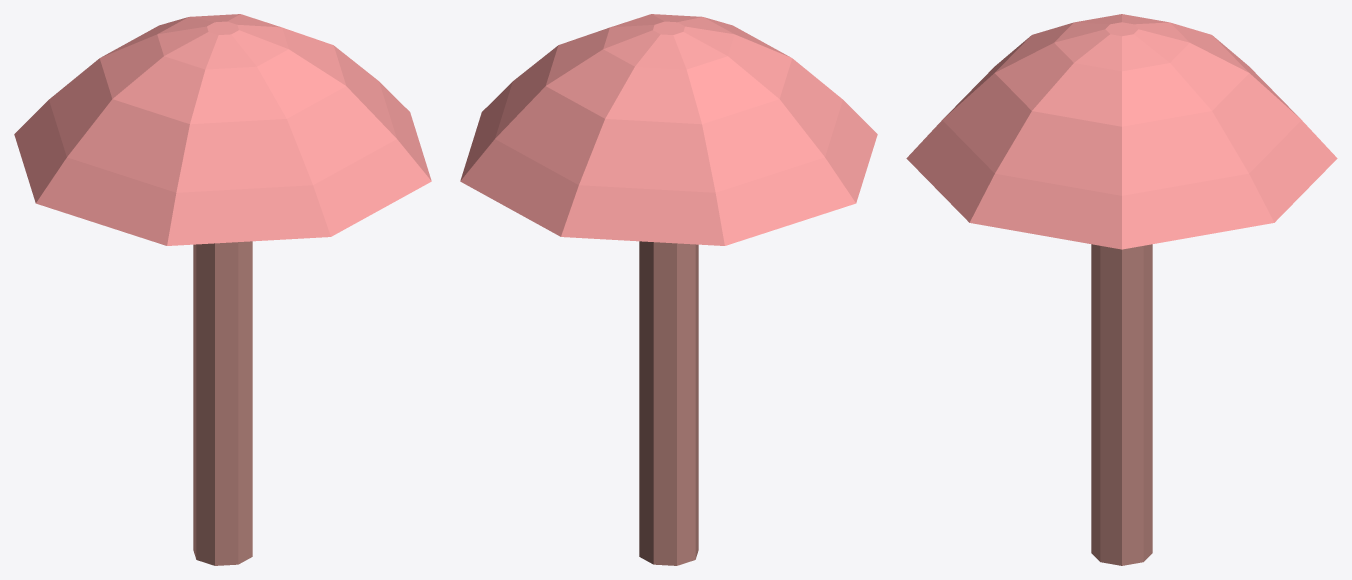
File: Mushroom2.2.glb
3 views of the same model, side by side, from view 1: azimuth 30°, elevation 25°; view 2: azimuth 150°, elevation 25°; view 3: azimuth 270°, elevation 25° (orthographic).
Parts seen in each view (by area): view 1: Mushroom2.2; view 2: Mushroom2.2; view 3: Mushroom2.2.
Boxes of the visible parts, x1,y1,x2,y2 form: Mushroom2.2: (14,14,431,565); Mushroom2.2: (460,14,877,565); Mushroom2.2: (906,14,1337,565).
Bounding box in the file's own units: 0.1925 × 0.258 × 0.1925.
